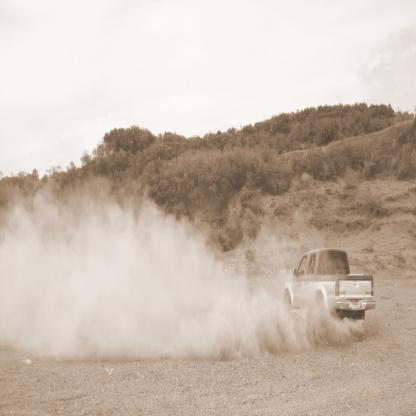Truck: (284, 247, 376, 336)
